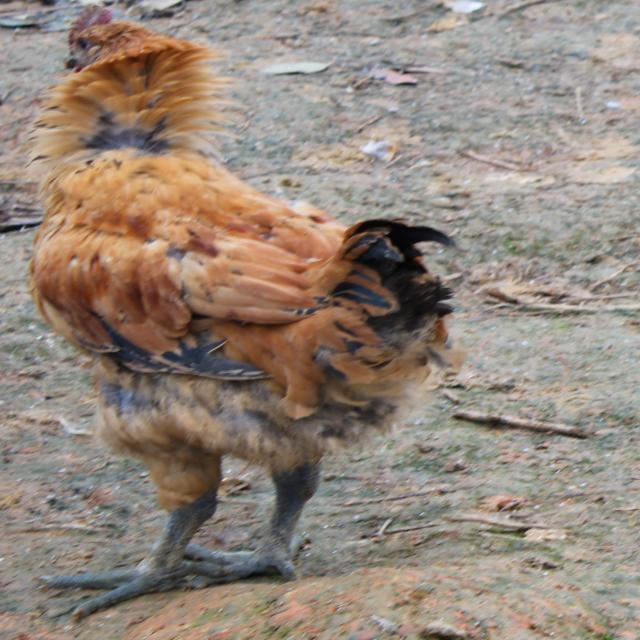hen: (26, 6, 459, 617)
